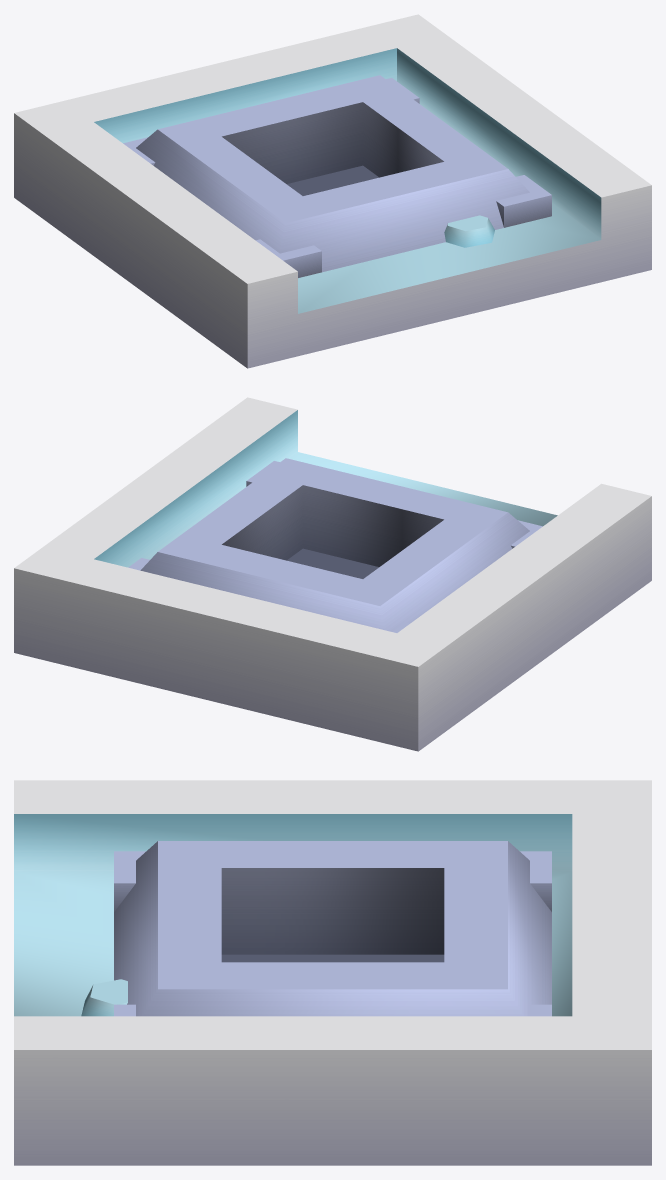
Rendered from snow-tile-spawn-end.fbx.
3 renders of one model, top to bottom at view 1: azimuth 30°, elevation 25°; view 2: azimuth 150°, elevation 25°; view 3: azimuth 270°, elevation 25°, orthographic. The views are drawn at different scales.
Parts seen in each view (by area): view 1: snow-tile-spawn-end; view 2: snow-tile-spawn-end; view 3: snow-tile-spawn-end.
Boxes of the visible parts, x1,y1,x2,y2 form: snow-tile-spawn-end: [14, 14, 651, 368]; snow-tile-spawn-end: [14, 397, 651, 751]; snow-tile-spawn-end: [14, 780, 651, 1165].
Size of the model in its own units: 100 by 20 by 100.
